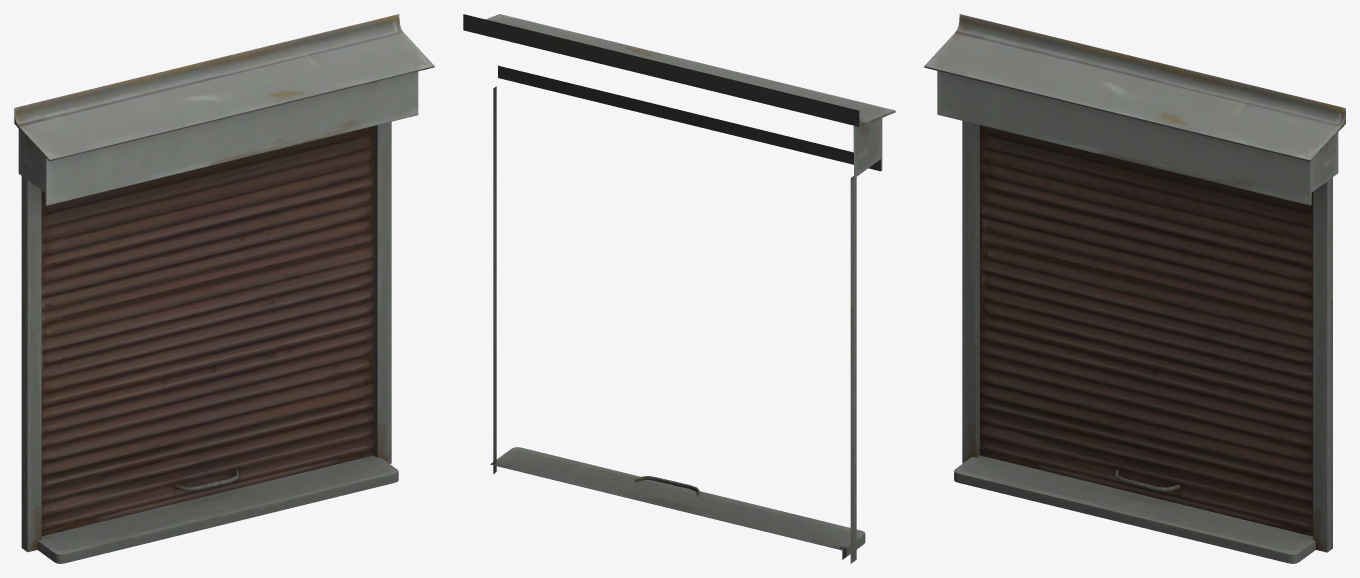
3 views of the same model, side by side, from view 1: azimuth 30°, elevation 25°; view 2: azimuth 150°, elevation 25°; view 3: azimuth 330°, elevation 25° (orthographic). The views are drawn at different scales.
Visible parts, largest first — view 1: body0_model0_lod0_mesh0; view 2: body0_model0_lod0_mesh0; view 3: body0_model0_lod0_mesh0.
Boxes of the visible parts, x1=… form: body0_model0_lod0_mesh0: x1=14, y1=14, x2=434, y2=563; body0_model0_lod0_mesh0: x1=463, y1=14, x2=895, y2=563; body0_model0_lod0_mesh0: x1=924, y1=14, x2=1345, y2=563.
Size of the model in its own units: 168 by 184 by 27.24.
1 material, 1 textured.
